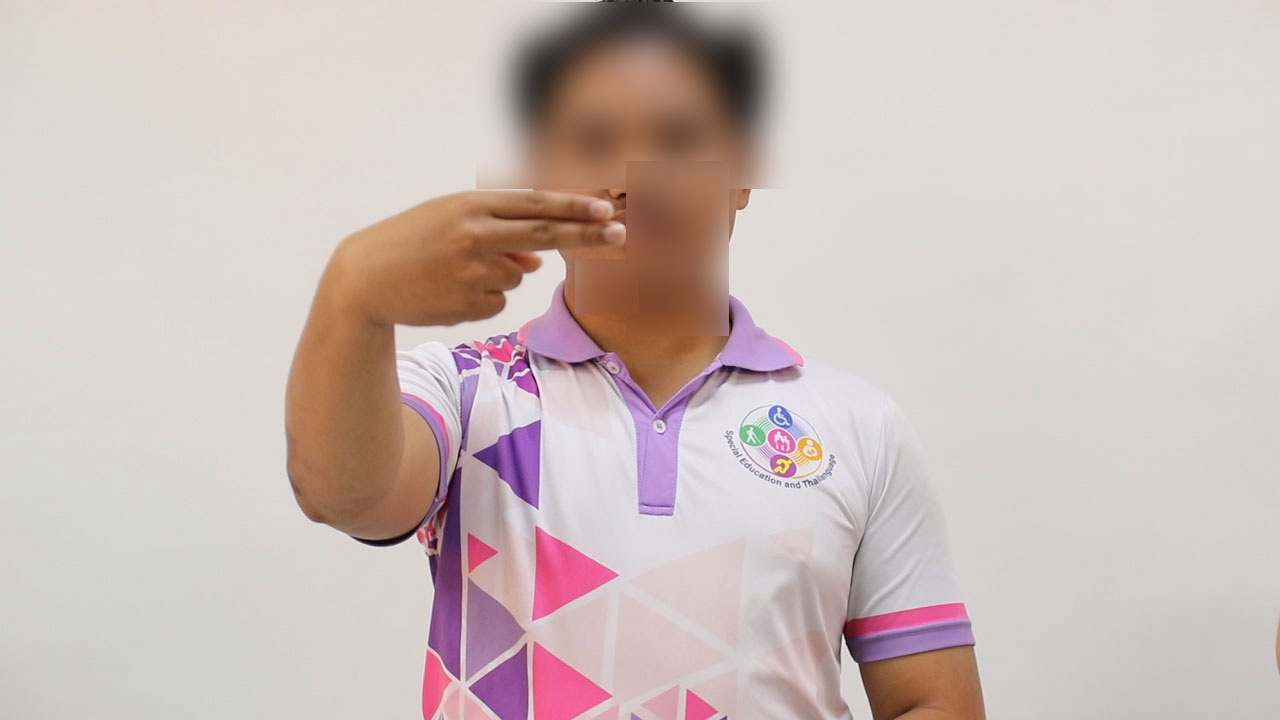hor: (316, 173, 637, 339)
